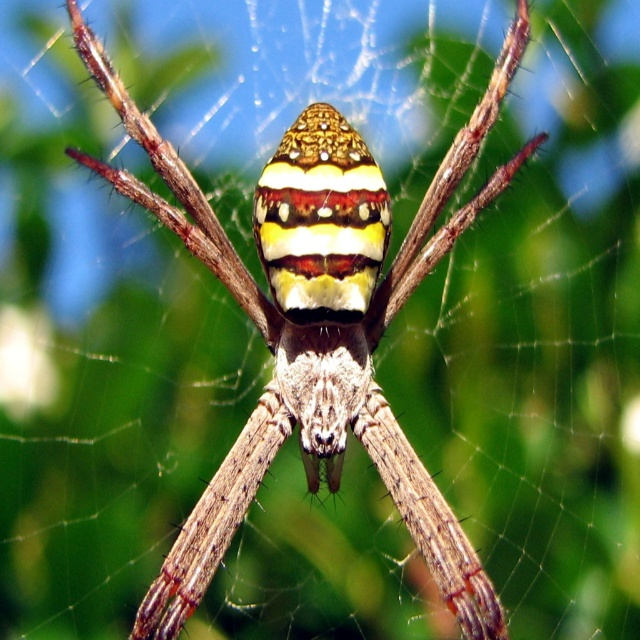Spider: (57, 1, 550, 640)
